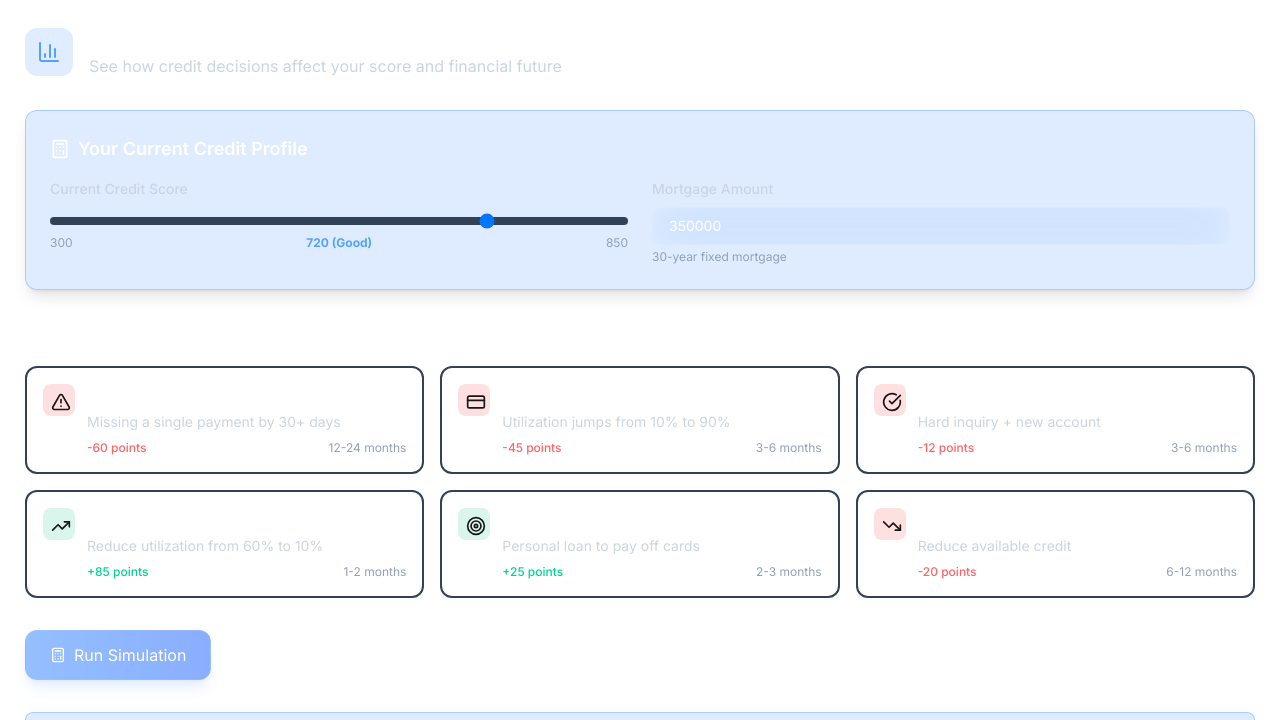
Test: CreditScoreImpactSimulator › updates credit score when slider is moved
Set the slider named "Current Credit Score" to "750" at (518, 221), box [50,217,628,225]
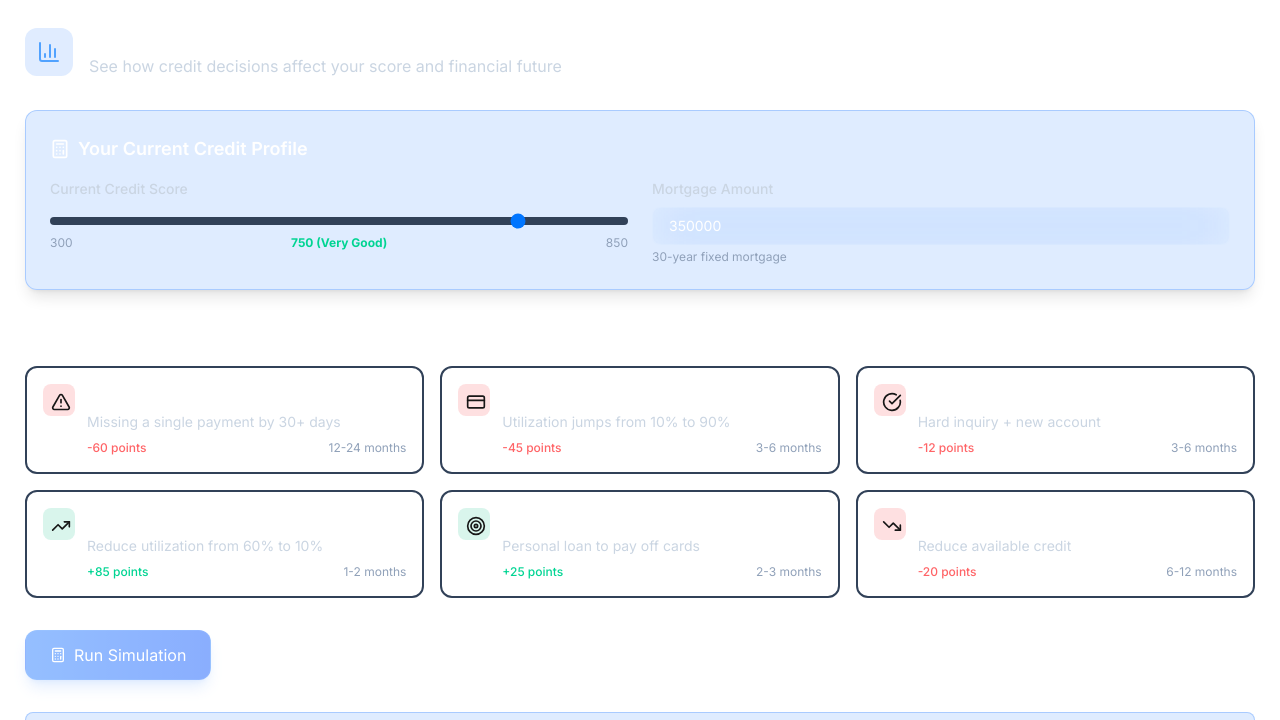
Expected: the text "750 (Very Good)" is shown, [291,235,387,251]
